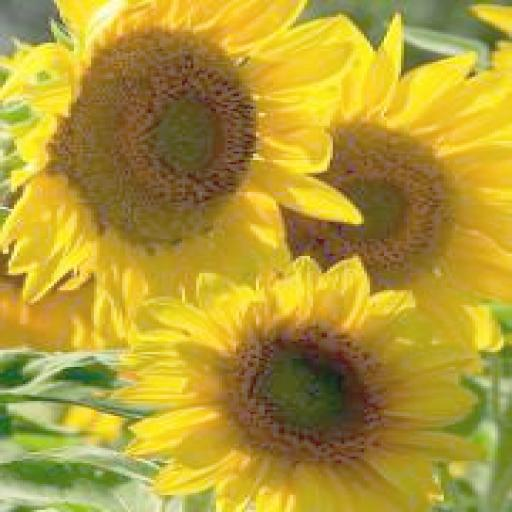sunflower: (233, 13, 512, 350), (136, 256, 486, 503)
